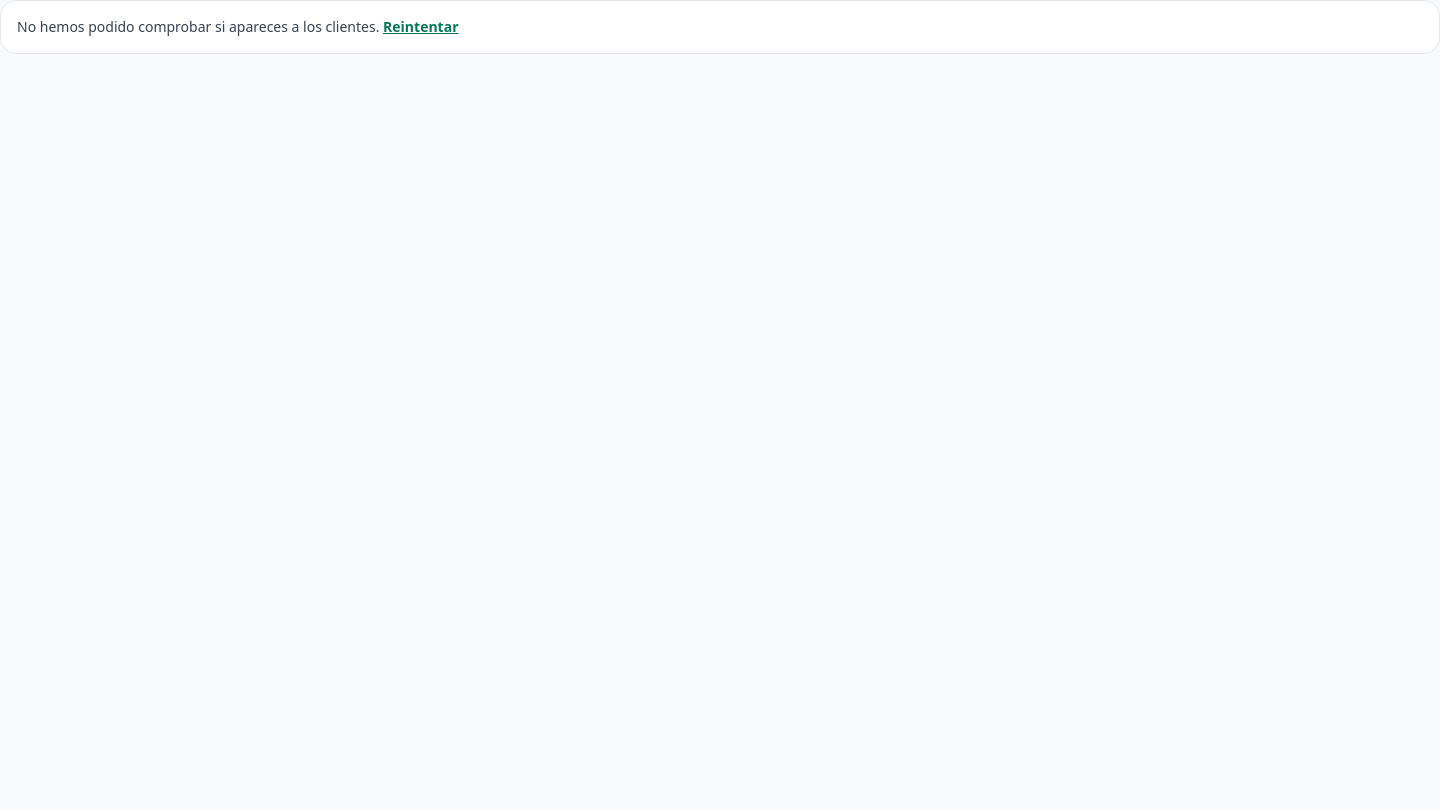
Test case: ProviderSetupChecklist › si el servidor falla, no bloquea el panel y deja reintentar
Click the button "Reintentar" at [421, 27], box [383, 17, 458, 37]
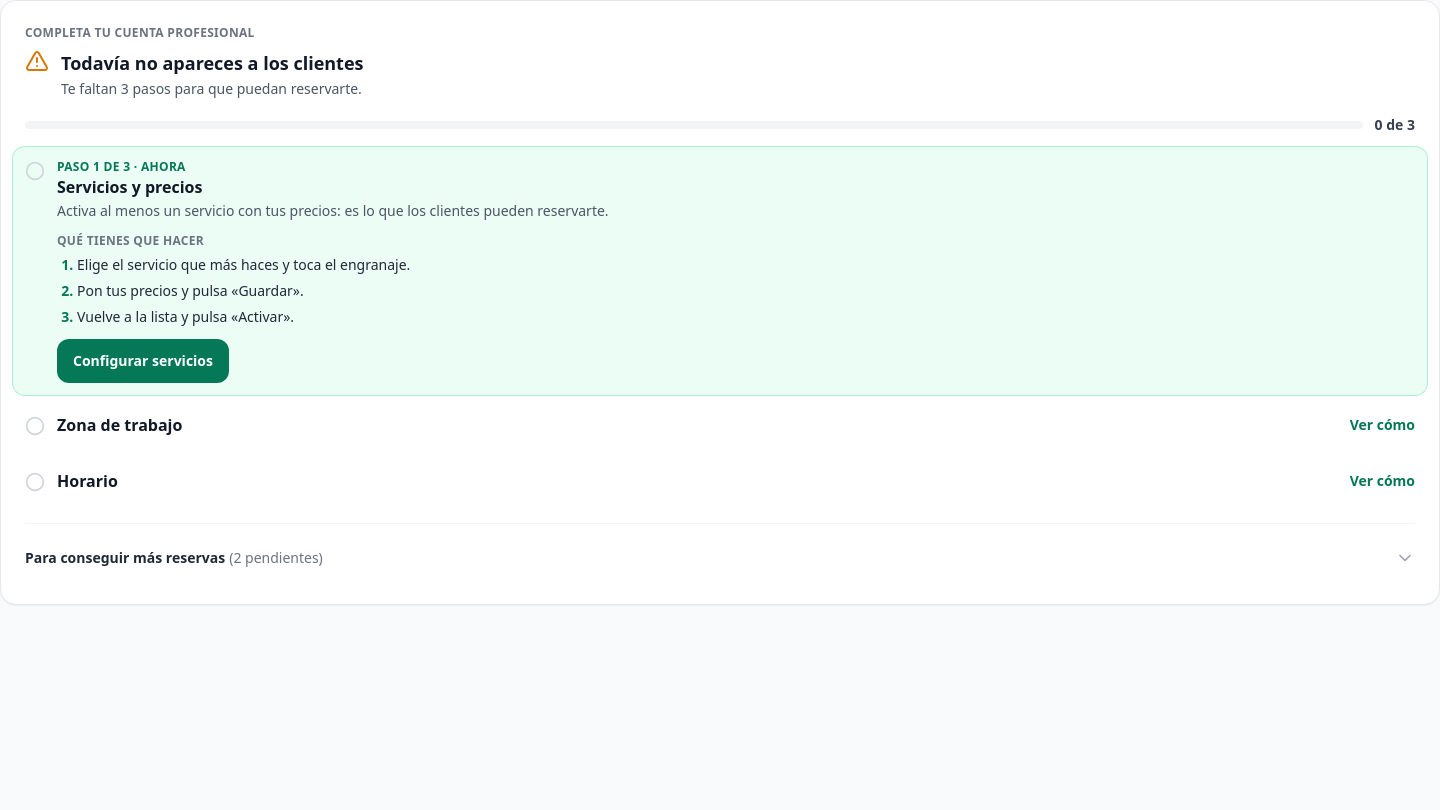
Result: the heading "Todavía no apareces a los clientes" is shown at [61, 49, 364, 77]
